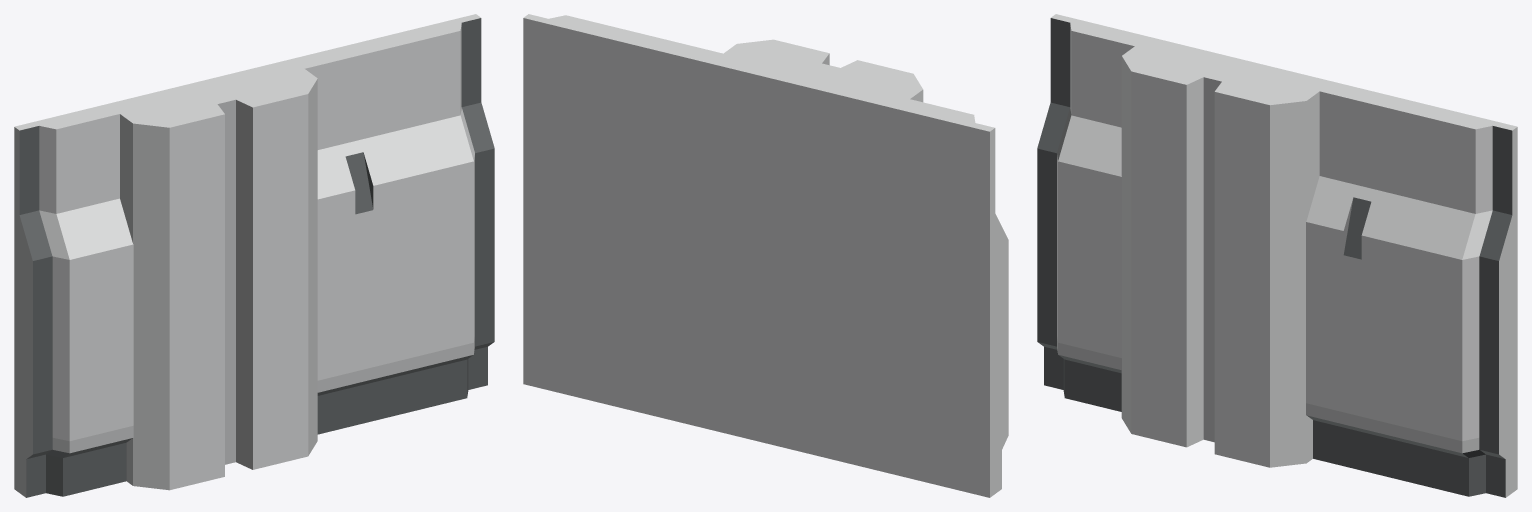
Rendered from Wall_type_A_044.fbx.
3 renders of one model, left to right at view 1: azimuth 30°, elevation 25°; view 2: azimuth 150°, elevation 25°; view 3: azimuth 330°, elevation 25°, orthographic.
Visible parts, largest first — view 1: Wall_type_A_044; view 2: Wall_type_A_044; view 3: Wall_type_A_044.
Boxes of the visible parts, bbox=[...] form: Wall_type_A_044: bbox=[14, 14, 494, 497]; Wall_type_A_044: bbox=[523, 14, 1008, 497]; Wall_type_A_044: bbox=[1037, 14, 1517, 497].
Bounding box in the file's own units: 200 × 30 × 150.
